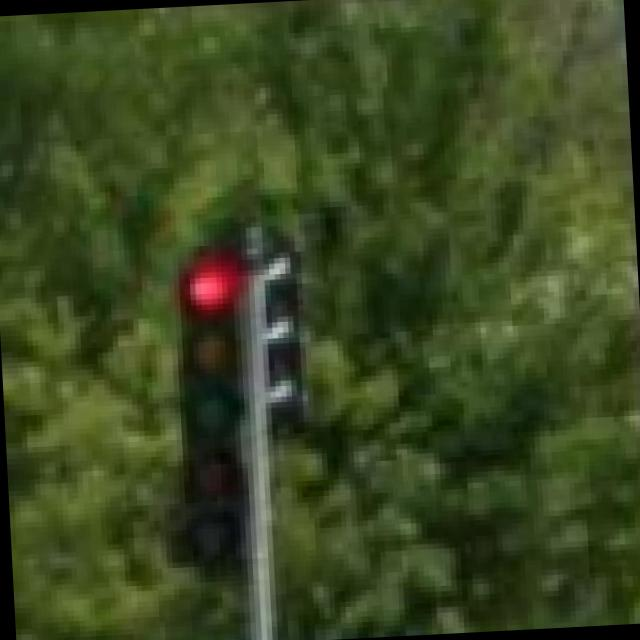red-lights: (178, 247, 243, 334)
